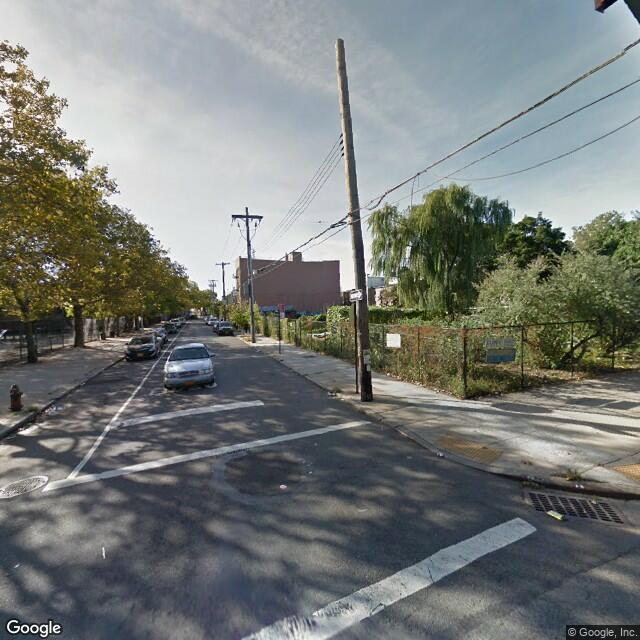litter: (546, 510, 564, 520), (326, 389, 339, 396), (437, 451, 446, 459), (78, 379, 86, 387), (574, 483, 585, 488), (591, 500, 600, 505)
